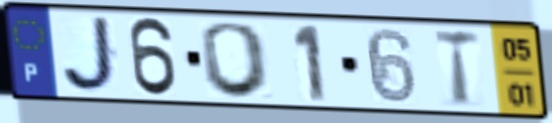1: (290, 22, 330, 104)
6: (363, 26, 420, 107), (126, 15, 179, 99)
J: (58, 15, 123, 96)
O: (198, 20, 275, 101)
T: (431, 27, 483, 110)
